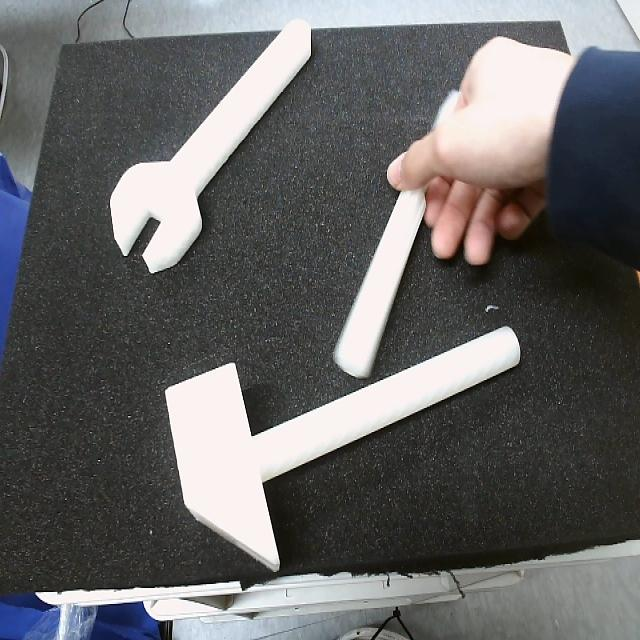Hammer: (164, 325, 524, 572)
Spanner: (110, 21, 310, 276)
